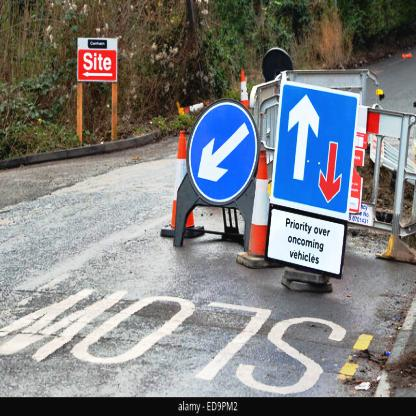Keep left: (187, 100, 257, 203)
